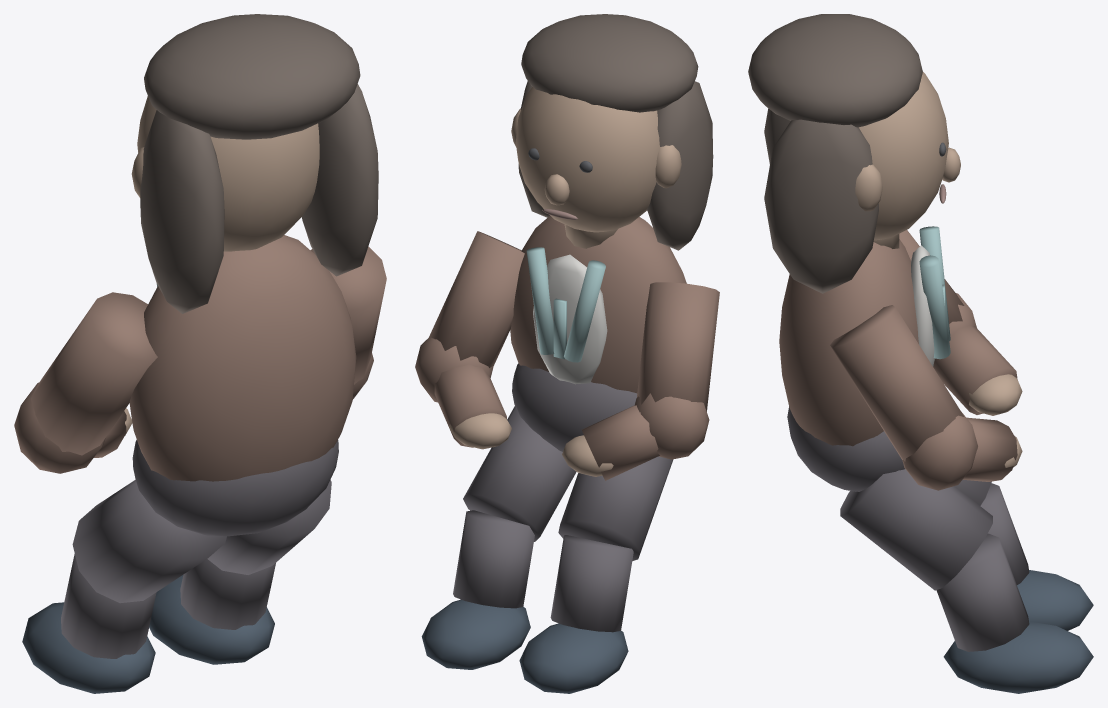
Rendered from f3b-agent-5.glb.
3 renders of one model, left to right at view 1: azimuth 30°, elevation 25°; view 2: azimuth 150°, elevation 25°; view 3: azimuth 270°, elevation 25°, orthographic. The views are drawn at different scales.
Visible parts, largest first — view 1: f3b-agent-5-01, f3b-agent-5-14, f3b-agent-5-15, f3b-agent-5-17, f3b-agent-5-21, f3b-agent-5-07, f3b-agent-5-00, f3b-agent-5-16, f3b-agent-5-23, f3b-agent-5-22, f3b-agent-5-30, f3b-agent-5-29 (+4 smaller); view 2: f3b-agent-5-07, f3b-agent-5-14, f3b-agent-5-01, f3b-agent-5-17, f3b-agent-5-24, f3b-agent-5-28, f3b-agent-5-15, f3b-agent-5-21, f3b-agent-5-22, f3b-agent-5-29, f3b-agent-5-00, f3b-agent-5-30 (+14 smaller); view 3: f3b-agent-5-14, f3b-agent-5-16, f3b-agent-5-01, f3b-agent-5-28, f3b-agent-5-24, f3b-agent-5-07, f3b-agent-5-29, f3b-agent-5-30, f3b-agent-5-00, f3b-agent-5-19, f3b-agent-5-25, f3b-agent-5-23 (+10 smaller).
Part boxes in pixels (left/top/right/bottom): f3b-agent-5-01: left=129, top=235, right=356, bottom=481; f3b-agent-5-14: left=144, top=14, right=360, bottom=139; f3b-agent-5-15: left=140, top=110, right=224, bottom=313; f3b-agent-5-17: left=30, top=292, right=157, bottom=455; f3b-agent-5-21: left=72, top=480, right=226, bottom=603; f3b-agent-5-07: left=137, top=96, right=319, bottom=251; f3b-agent-5-00: left=132, top=440, right=338, bottom=536; f3b-agent-5-16: left=302, top=84, right=378, bottom=276; f3b-agent-5-23: left=22, top=602, right=155, bottom=693; f3b-agent-5-22: left=61, top=554, right=156, bottom=658; f3b-agent-5-30: left=149, top=575, right=274, bottom=664; f3b-agent-5-29: left=180, top=559, right=275, bottom=629; f3b-agent-5-07: left=515, top=87, right=659, bottom=232; f3b-agent-5-14: left=521, top=14, right=698, bottom=112; f3b-agent-5-01: left=510, top=215, right=686, bottom=393; f3b-agent-5-17: left=637, top=282, right=719, bottom=411; f3b-agent-5-24: left=429, top=231, right=524, bottom=367; f3b-agent-5-28: left=463, top=406, right=576, bottom=541; f3b-agent-5-15: left=647, top=81, right=713, bottom=250; f3b-agent-5-21: left=558, top=456, right=673, bottom=560; f3b-agent-5-22: left=550, top=535, right=633, bottom=632; f3b-agent-5-29: left=453, top=510, right=534, bottom=608; f3b-agent-5-00: left=512, top=363, right=637, bottom=451; f3b-agent-5-30: left=421, top=599, right=530, bottom=669; f3b-agent-5-14: left=748, top=14, right=922, bottom=127; f3b-agent-5-16: left=764, top=119, right=878, bottom=293; f3b-agent-5-01: left=779, top=239, right=918, bottom=446; f3b-agent-5-28: left=840, top=469, right=992, bottom=590; f3b-agent-5-24: left=830, top=305, right=964, bottom=461; f3b-agent-5-07: left=859, top=72, right=948, bottom=240; f3b-agent-5-29: left=936, top=533, right=1029, bottom=651; f3b-agent-5-30: left=943, top=621, right=1093, bottom=693; f3b-agent-5-00: left=787, top=406, right=904, bottom=491; f3b-agent-5-19: left=933, top=325, right=1017, bottom=414; f3b-agent-5-25: left=902, top=411, right=977, bottom=490; f3b-agent-5-23: left=1017, top=570, right=1093, bottom=630.
Size of the model in its own units: 1.11 by 2.16 by 1.08.
